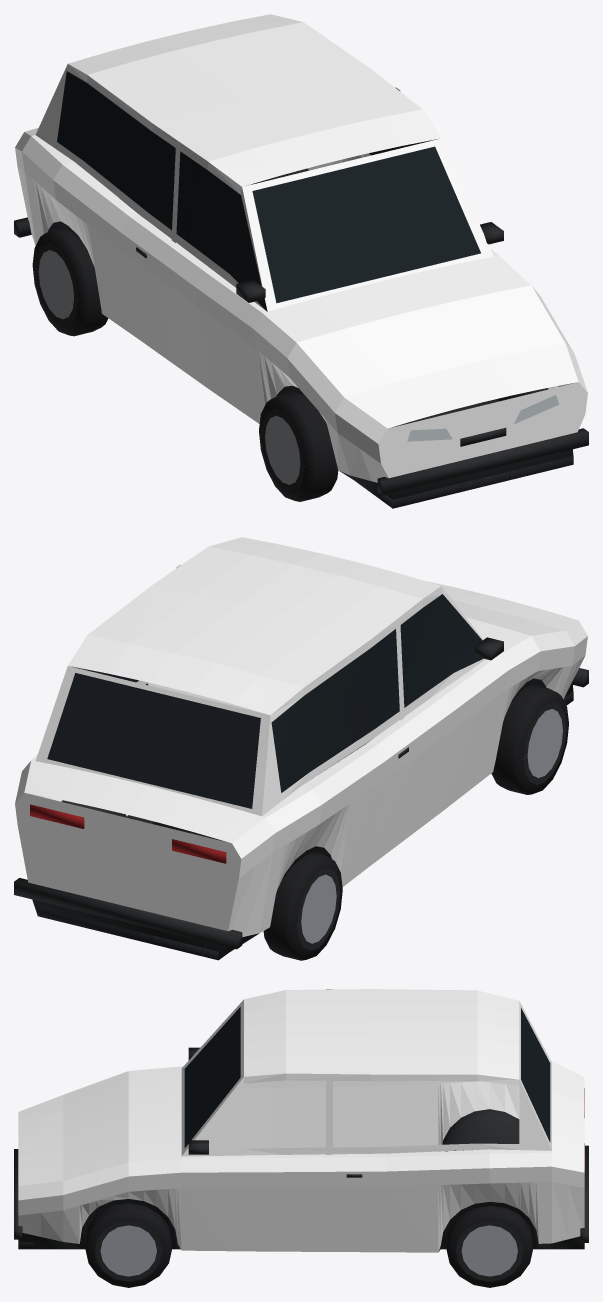
File: vallon_nimbo.glb
3 views of the same model, one above another, from view 1: azimuth 30°, elevation 25°; view 2: azimuth 150°, elevation 25°; view 3: azimuth 270°, elevation 25° (orthographic). The views are drawn at different scales.
Visible parts, largest first — view 1: Body_Paint, Body_Details, Mount_FrontLeft_Wheel_Details, Mount_RearLeft_Wheel_Details; view 2: Body_Paint, Body_Details, Mount_FrontLeft_Wheel_Details, Mount_RearLeft_Wheel_Details; view 3: Body_Paint, Body_Details, Mount_FrontRight_Wheel_Details, Mount_RearRight_Wheel_Details.
Boxes of the visible parts, x1,y1,x2,y2 form: Body_Paint: [15, 14, 587, 482]; Body_Details: [14, 71, 588, 508]; Mount_FrontLeft_Wheel_Details: [259, 391, 338, 501]; Mount_RearLeft_Wheel_Details: [32, 227, 108, 336]; Body_Paint: [15, 537, 587, 937]; Body_Details: [14, 594, 588, 960]; Mount_FrontLeft_Wheel_Details: [491, 684, 568, 794]; Mount_RearLeft_Wheel_Details: [263, 852, 342, 960]; Body_Paint: [18, 989, 584, 1252]; Body_Details: [14, 1007, 588, 1251]; Mount_FrontRight_Wheel_Details: [85, 1203, 172, 1287]; Mount_RearRight_Wheel_Details: [446, 1206, 533, 1287].
Bounding box in the file's own units: 1.59 × 1.49 × 3.69.
Materials: 2 (1 with a texture image).
